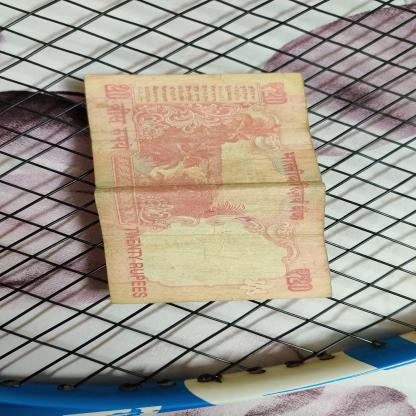Old20Back: (85, 72, 333, 304)
